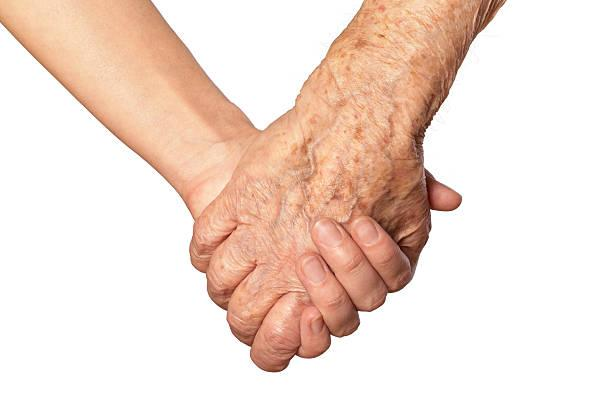Dry-Skin: (294, 42, 422, 217)
